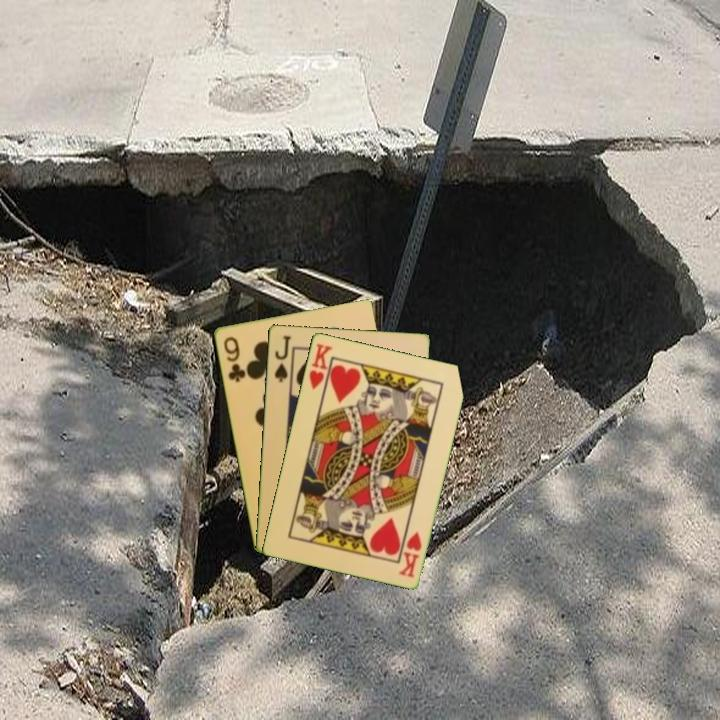9c: (220, 333, 247, 385)
Js: (271, 332, 294, 385)
Kh: (305, 340, 335, 397), (395, 528, 424, 580)
